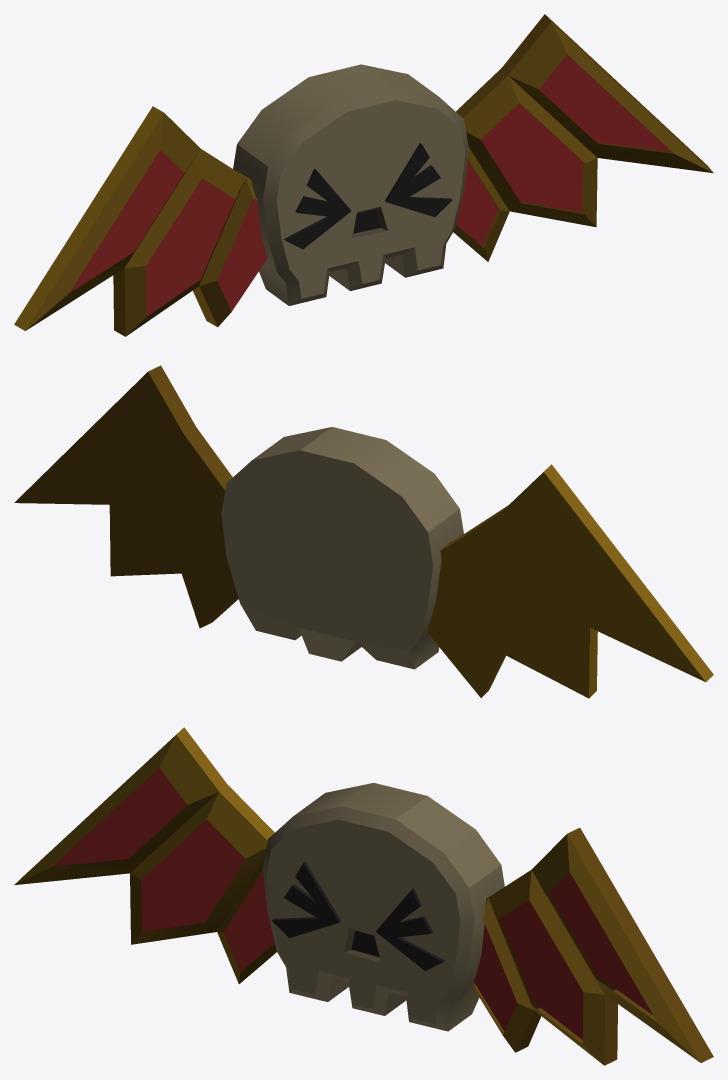
The model's file is skull_wand_bullet.fbx.
3 views of the same model, one above another, from view 1: azimuth 30°, elevation 25°; view 2: azimuth 150°, elevation 25°; view 3: azimuth 330°, elevation 25° (orthographic). The views are drawn at different scales.
Parts seen in each view (by area): view 1: skull_wand_bullet_mesh; view 2: skull_wand_bullet_mesh; view 3: skull_wand_bullet_mesh.
Part boxes in pixels (x1,y1,x2,y2): skull_wand_bullet_mesh: (14, 14, 713, 336); skull_wand_bullet_mesh: (14, 365, 713, 698); skull_wand_bullet_mesh: (14, 727, 713, 1065).
Size of the model in its own units: 6.54 by 2.12 by 0.7765.
